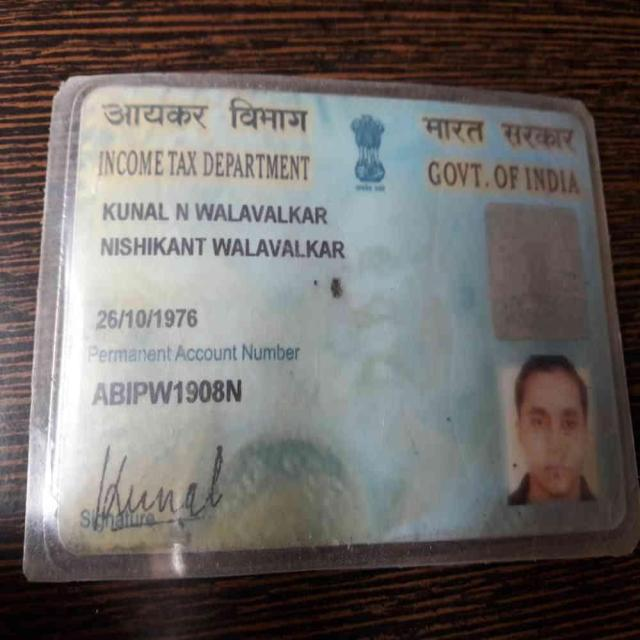pan_card: (65, 84, 625, 549)
